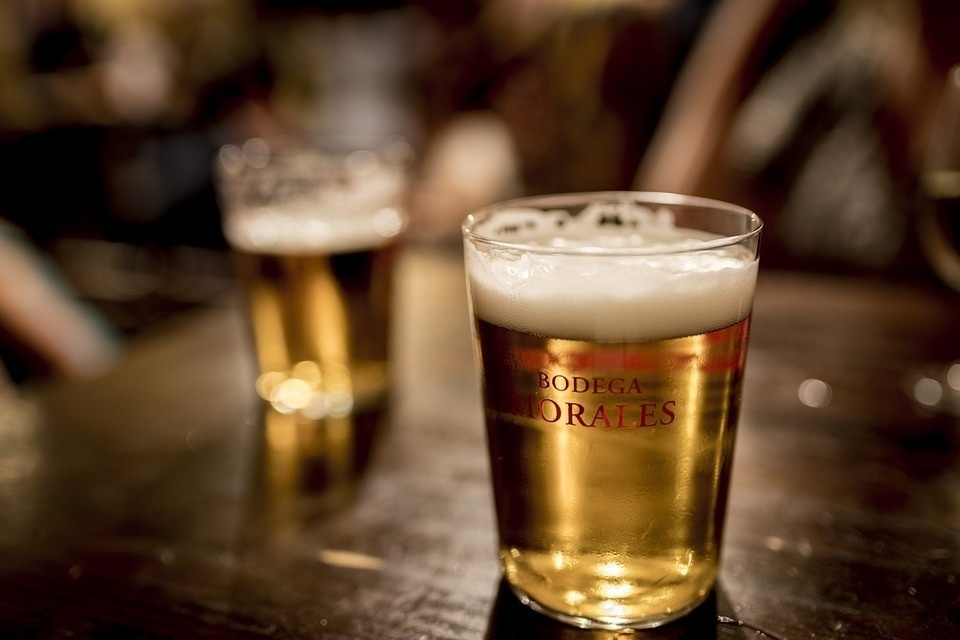whiskey: (448, 199, 772, 623)
